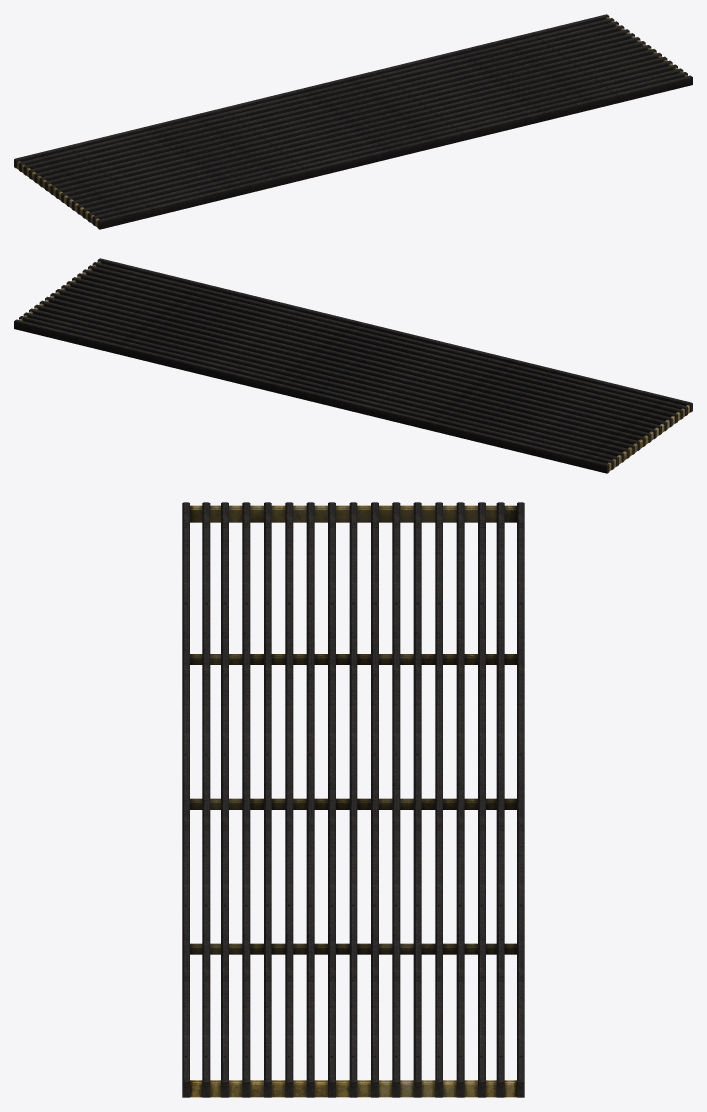
Rendered from phi_grating.DAE.
3 views of the same model, one above another, from view 1: azimuth 30°, elevation 25°; view 2: azimuth 150°, elevation 25°; view 3: azimuth 270°, elevation 25° (orthographic). The views are drawn at different scales.
Parts seen in each view (by area): view 1: polySurface237; view 2: polySurface237; view 3: polySurface237.
Boxes of the visible parts, x1=… form: polySurface237: x1=14, y1=14, x2=692, y2=229; polySurface237: x1=14, y1=258, x2=692, y2=473; polySurface237: x1=182, y1=502, x2=524, y2=1097.
Bounding box in the file's own units: 4 × 0.0558 × 1.
